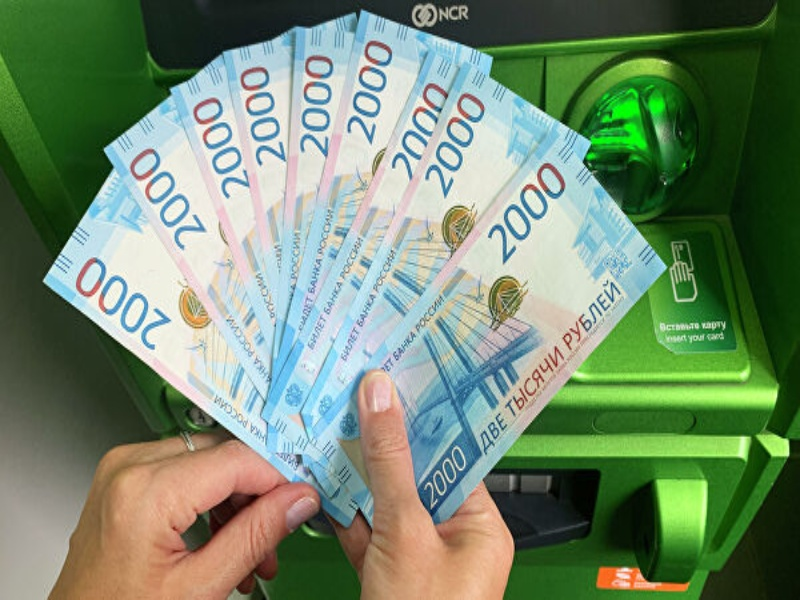cash: (43, 9, 667, 527)
